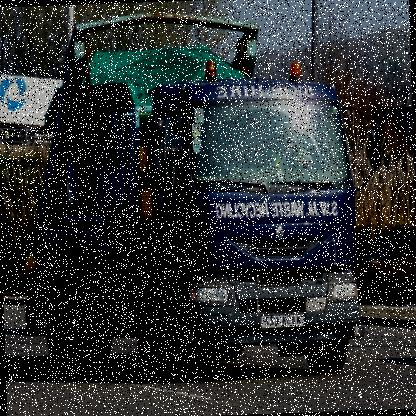Car: (351, 224, 415, 314)
